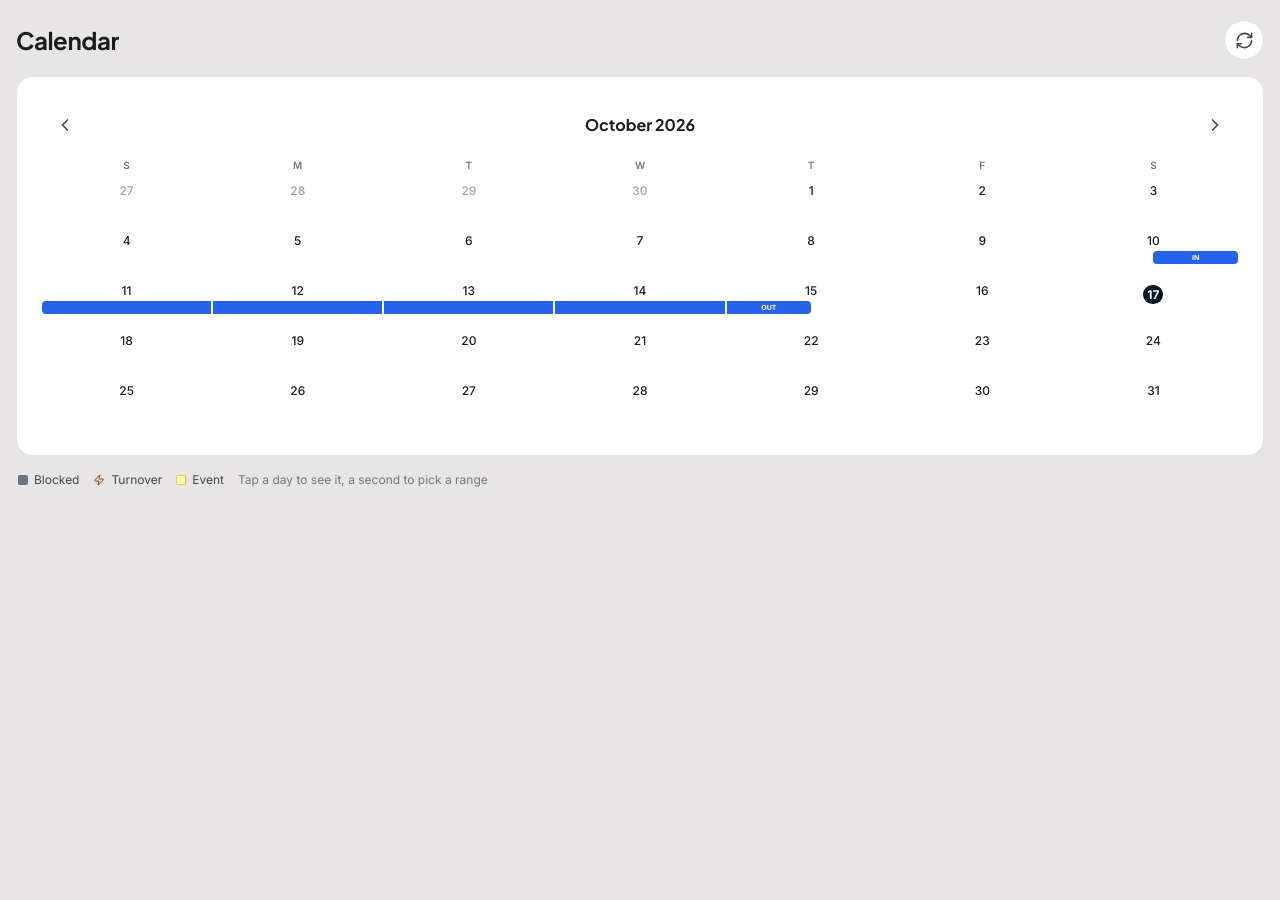
Test: opening a booking from the calendar › opens that stay detail when the row is tapped
The width and height of the screenshot is (1280, 900).
Click the button "12": (298, 304) [212,281,383,327]
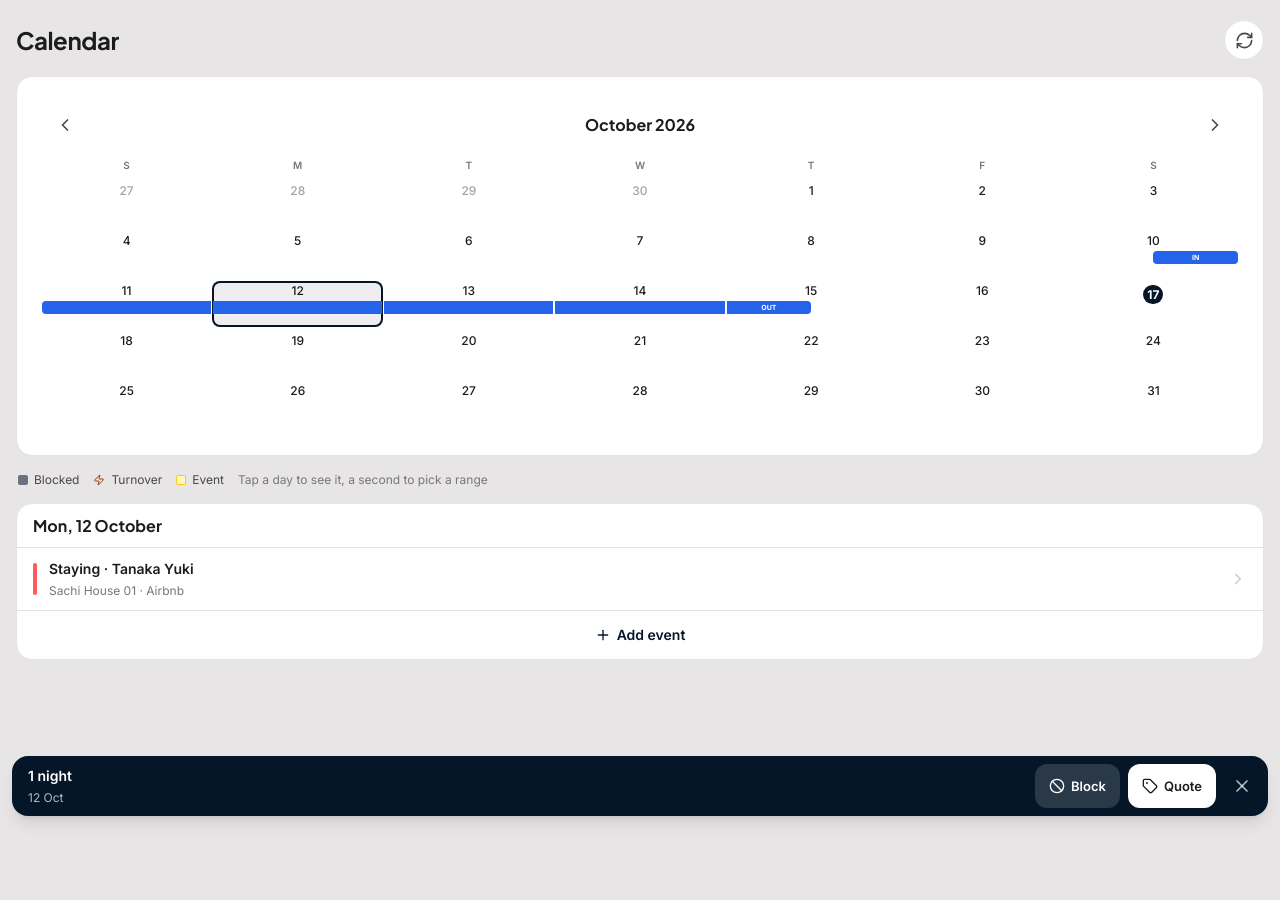
Click the text "Staying · Tanaka Yuki": (121, 569) [49,560,194,577]
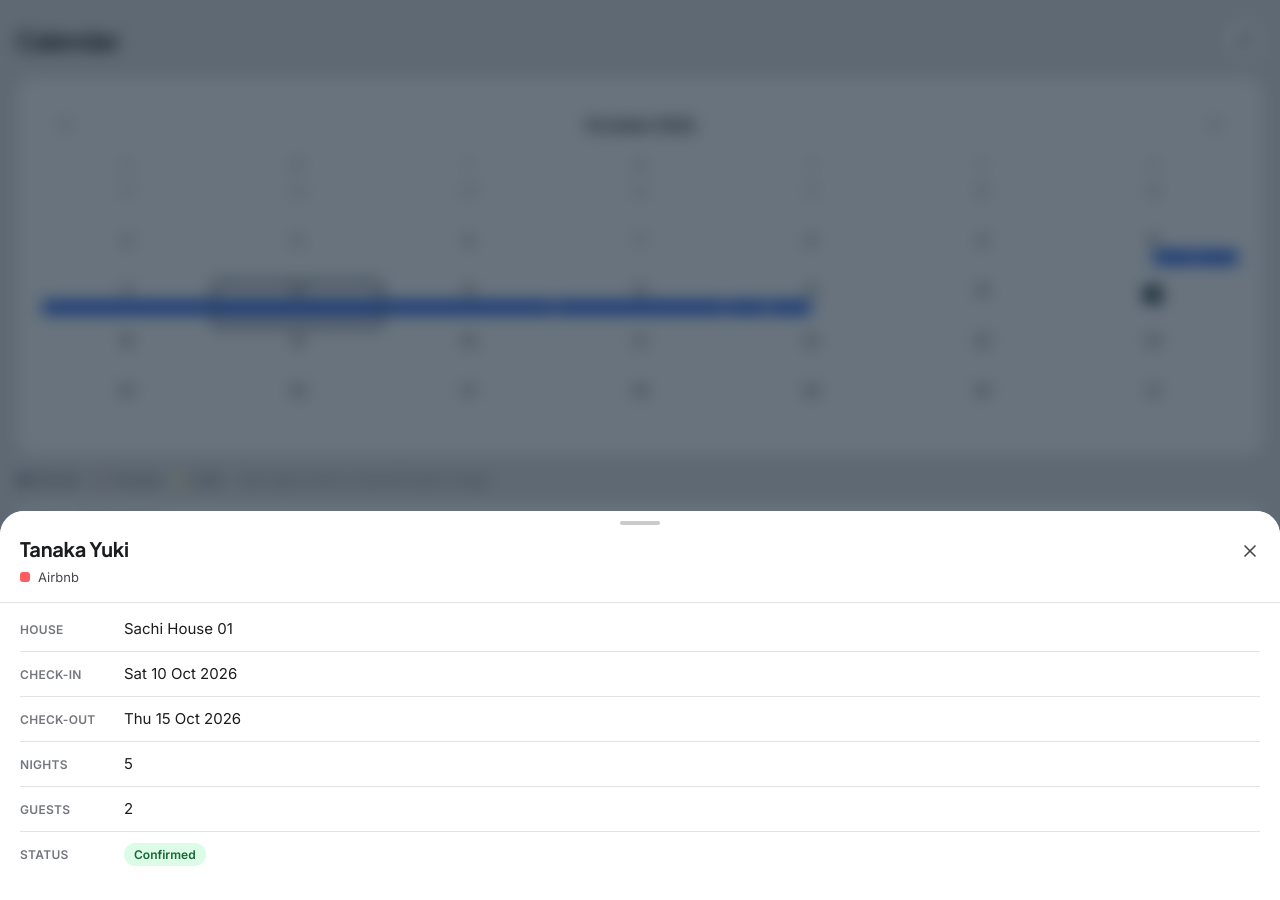
Expected: the dialog named "Booking detail" is shown, [0,511,1279,899]
